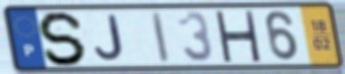3: (175, 9, 215, 64)
6: (264, 9, 301, 62)
H: (212, 9, 263, 64)
I: (150, 10, 172, 65)
J: (93, 13, 126, 62)
S: (36, 10, 89, 67)
